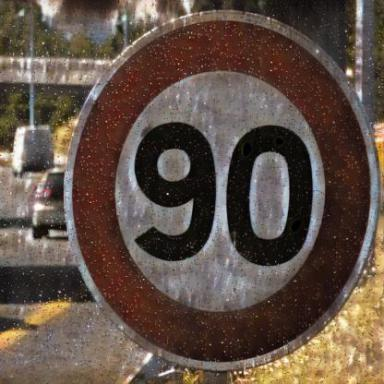Speed_limit_90: (74, 17, 371, 362)
